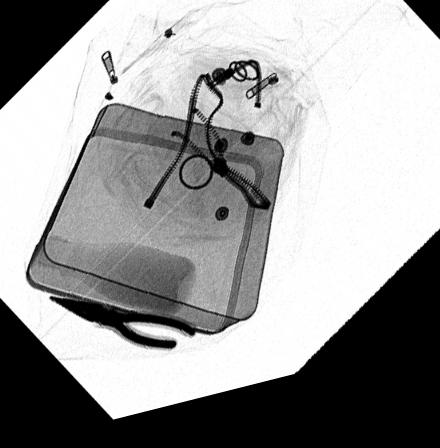Pliers: (49, 298, 201, 358)
